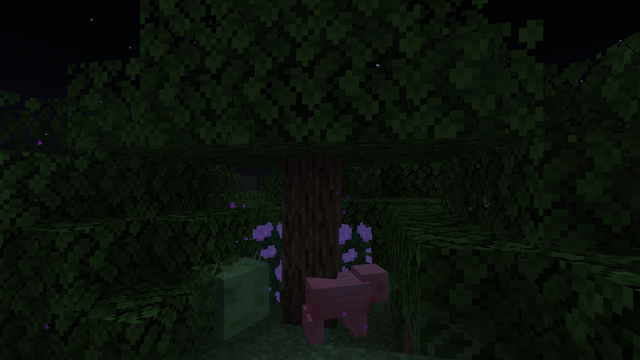cochons: (305, 269, 362, 348)
slimes: (214, 255, 267, 337)
